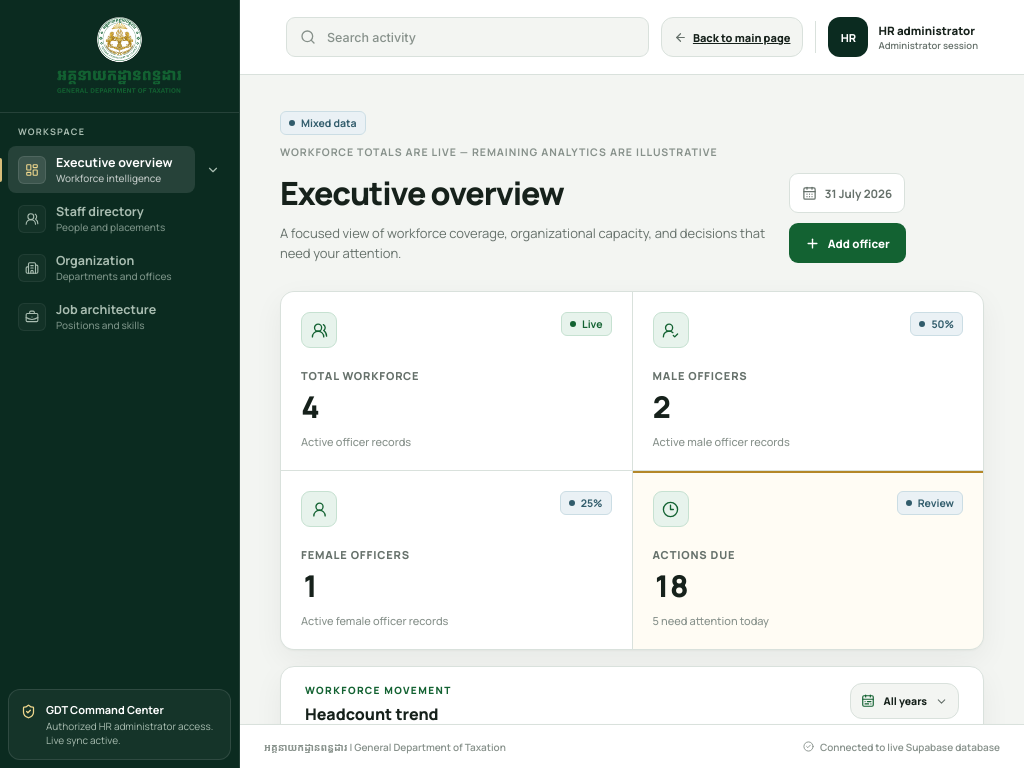
AdminDashboardPage › renders live active-officer workforce metrics
The width and height of the screenshot is (1024, 768).
Expected: the heading "Executive overview" is shown, [280,171,564,215]
Expected: the navigation bar named "Admin navigation" is shown, [8,125,231,332]
Click the button named "Expand Executive overview": (213, 170) [195,146,231,193]
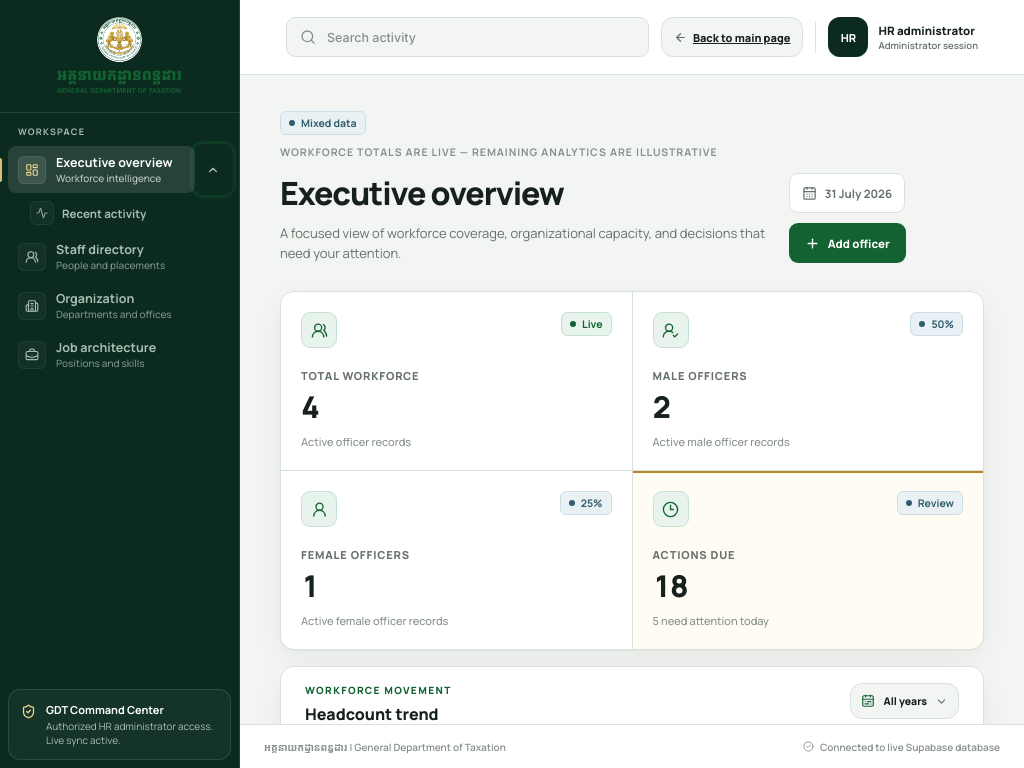
Expected: the text "Total workforce" is shown, [301,368,419,383]
Now the button named "Expand Executive overview" is expanded, box [195,146,231,193]
